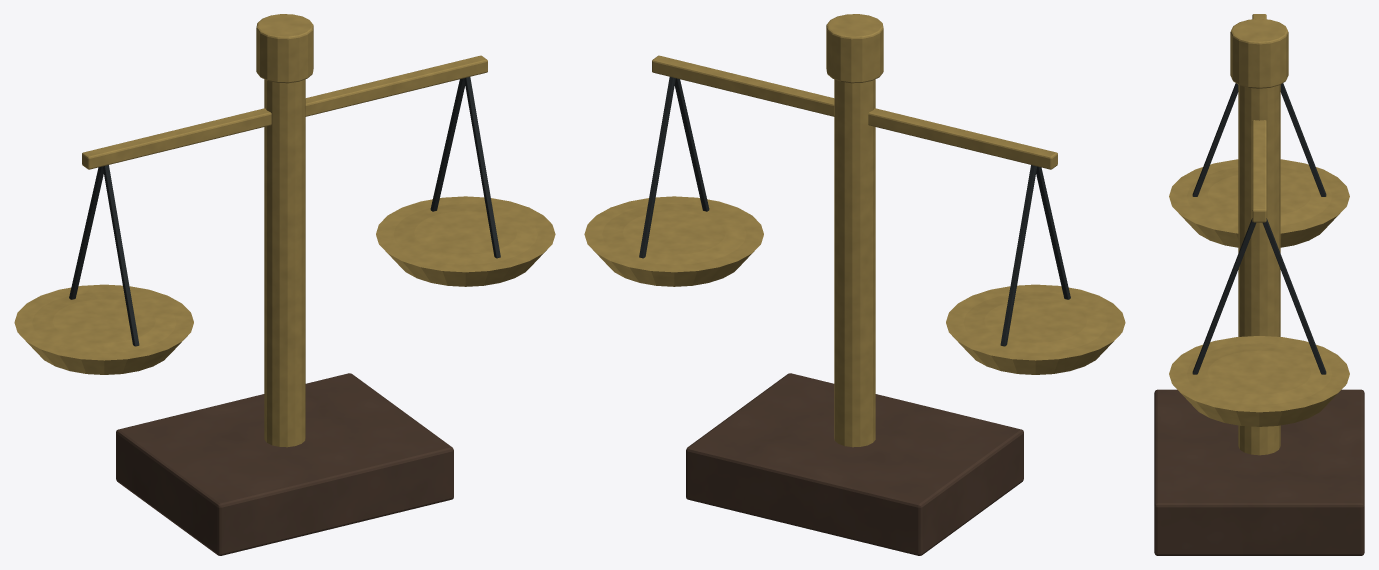
Rendered from Market_Scale.fbx.
3 views of the same model, side by side, from view 1: azimuth 30°, elevation 25°; view 2: azimuth 150°, elevation 25°; view 3: azimuth 270°, elevation 25° (orthographic).
Visible parts, largest first — view 1: Market_Scale.001; view 2: Market_Scale.001; view 3: Market_Scale.001.
Boxes of the visible parts, x1=… form: Market_Scale.001: x1=14, y1=14, x2=555, y2=555; Market_Scale.001: x1=584, y1=14, x2=1125, y2=555; Market_Scale.001: x1=1154, y1=14, x2=1364, y2=555.
Size of the model in its own units: 1.86 by 1.6 by 0.65.
